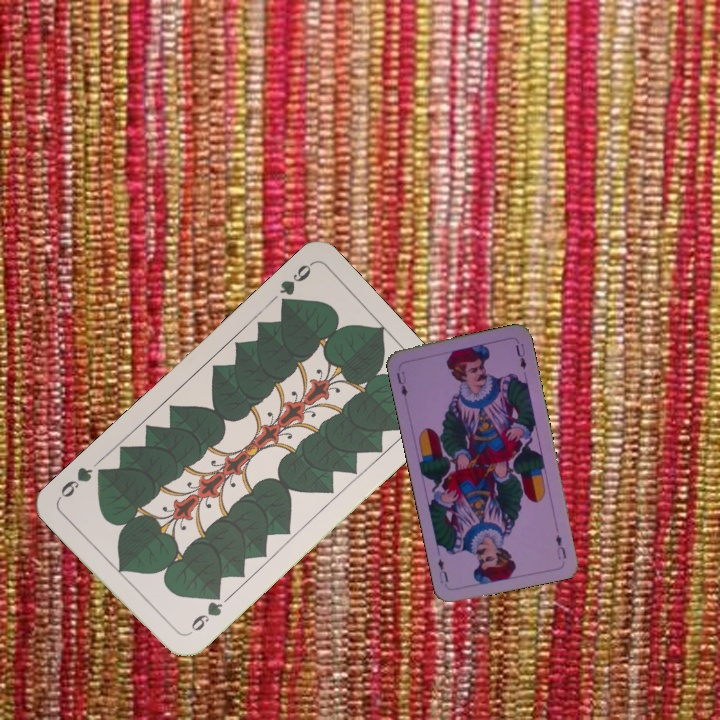EU: (392, 368, 410, 399), (552, 531, 569, 562)
G9: (182, 588, 225, 638), (275, 259, 315, 312)
